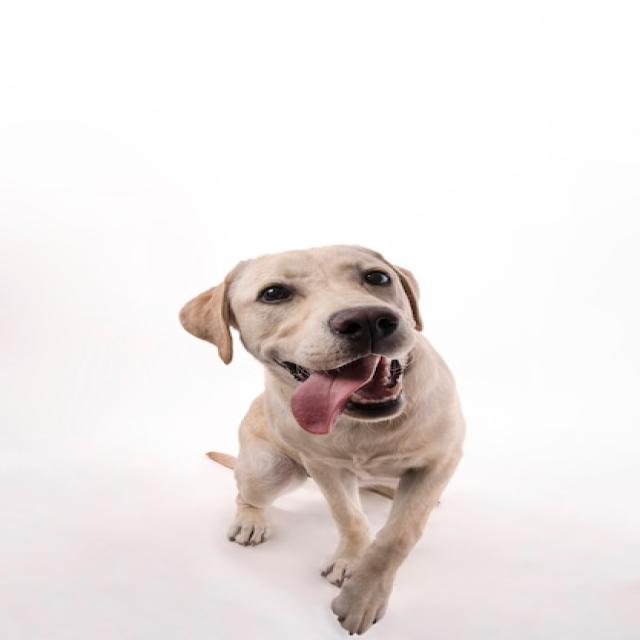Dog: (178, 244, 464, 635)
